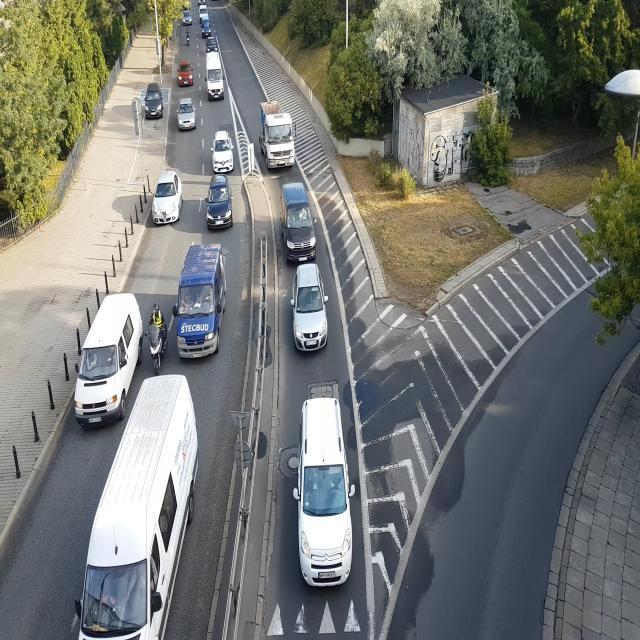car: (293, 388, 353, 589), (74, 291, 130, 426), (174, 240, 230, 360), (289, 262, 334, 363), (276, 180, 322, 264), (148, 168, 184, 230), (205, 175, 237, 233), (209, 129, 236, 174), (205, 55, 226, 101), (144, 81, 164, 124), (177, 99, 197, 134), (176, 56, 196, 88), (205, 36, 219, 54), (200, 18, 212, 37), (198, 3, 209, 20), (183, 12, 194, 24)
motorcycle: (148, 304, 170, 372), (184, 25, 194, 47)
truck: (257, 90, 299, 180)
